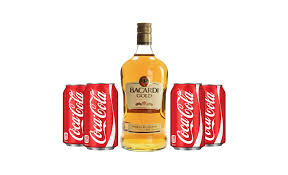coke: (84, 80, 118, 153), (169, 85, 206, 152), (201, 85, 227, 151), (62, 85, 83, 146)
